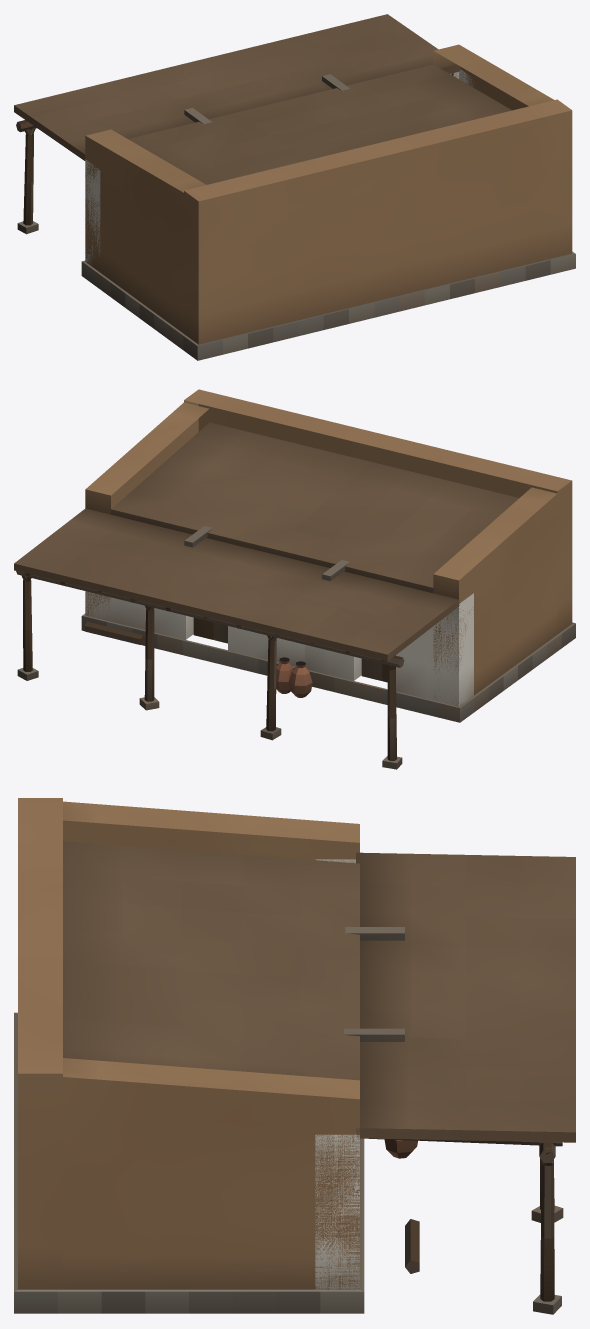
The model's file is casa_galeria_a.glb.
3 views of the same model, one above another, from view 1: azimuth 30°, elevation 25°; view 2: azimuth 150°, elevation 25°; view 3: azimuth 270°, elevation 25° (orthographic). The views are drawn at different scales.
Parts seen in each view (by area): view 1: casa_galeria_a; view 2: casa_galeria_a; view 3: casa_galeria_a.
Boxes of the visible parts, left/top/right/bottom form: casa_galeria_a: left=14, top=14, right=575, bottom=360; casa_galeria_a: left=14, top=389, right=575, bottom=769; casa_galeria_a: left=14, top=798, right=575, bottom=1314.
Size of the model in its own units: 8.22 by 3.23 by 6.9.
